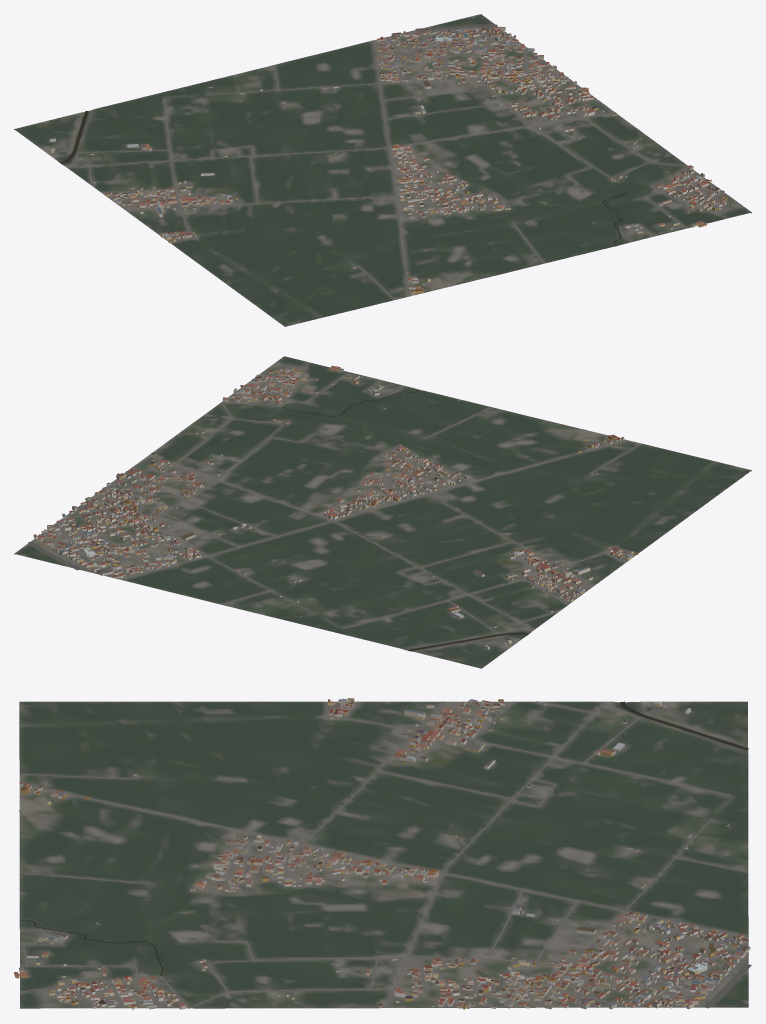
The picture shows the model from 3 angles, top to bottom: view 1: azimuth 30°, elevation 25°; view 2: azimuth 150°, elevation 25°; view 3: azimuth 270°, elevation 25°; orthographic projection. The views are drawn at different scales.
Visible parts, largest first — view 1: ground, buildings, roads; view 2: ground, buildings, roads; view 3: ground, buildings, roads, water.
Boxes of the visible parts, bbox=[...] form: ground: bbox=[14, 14, 751, 326]; buildings: bbox=[50, 26, 727, 295]; roads: bbox=[48, 24, 741, 299]; ground: bbox=[14, 356, 751, 668]; buildings: bbox=[33, 365, 638, 649]; roads: bbox=[28, 362, 641, 645]; ground: bbox=[19, 701, 748, 1008]; buildings: bbox=[14, 698, 750, 1009]; roads: bbox=[19, 701, 751, 1008]; water: bbox=[20, 701, 748, 975].
Size of the model in its own units: 1408 by 16.23 by 1420.
